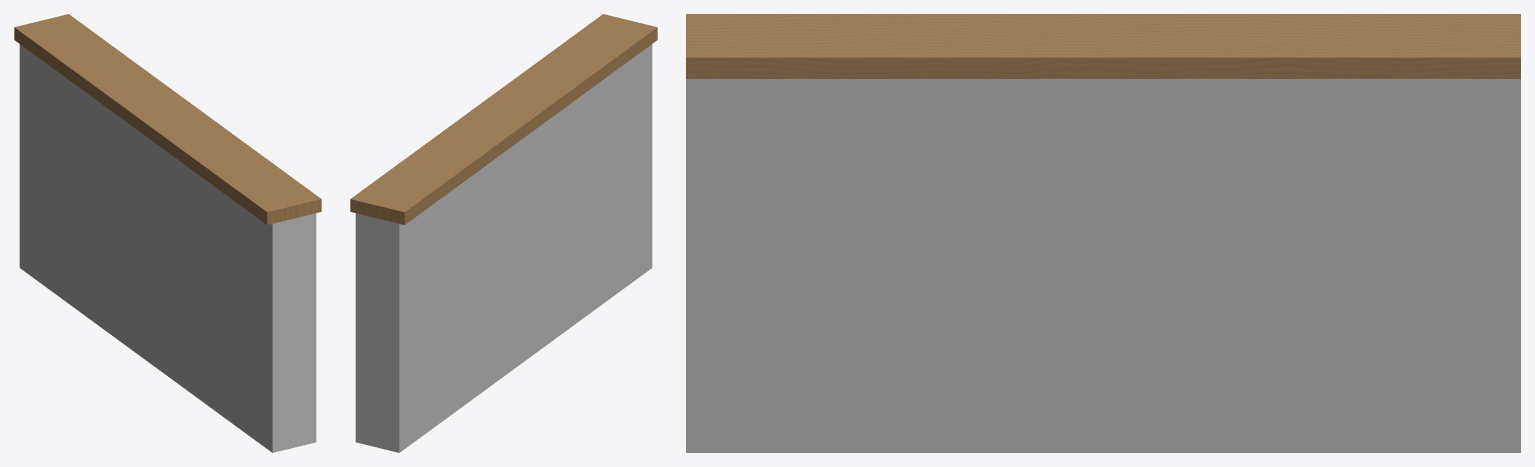
Rendered from Half_Wall_01_G.FBX.
3 views of the same model, side by side, from view 1: azimuth 30°, elevation 25°; view 2: azimuth 150°, elevation 25°; view 3: azimuth 270°, elevation 25° (orthographic). The views are drawn at different scales.
Parts seen in each view (by area): view 1: Half_Wall_5m _2p5m_halfm; view 2: Half_Wall_5m _2p5m_halfm; view 3: Half_Wall_5m _2p5m_halfm.
Boxes of the visible parts, <box> form: Half_Wall_5m _2p5m_halfm: <box>14,14,321,452</box>; Half_Wall_5m _2p5m_halfm: <box>350,14,657,452</box>; Half_Wall_5m _2p5m_halfm: <box>686,14,1520,452</box>.
Size of the model in its own units: 2441 by 10394 by 19685.
